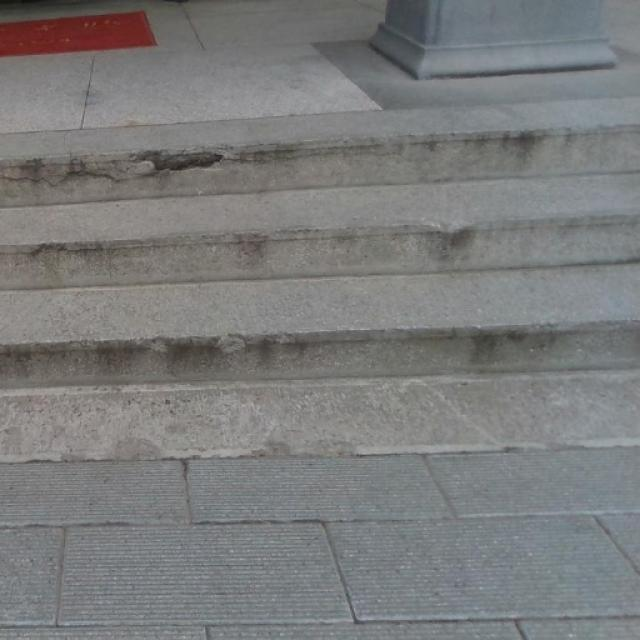Stairs: (0, 104, 639, 468)
